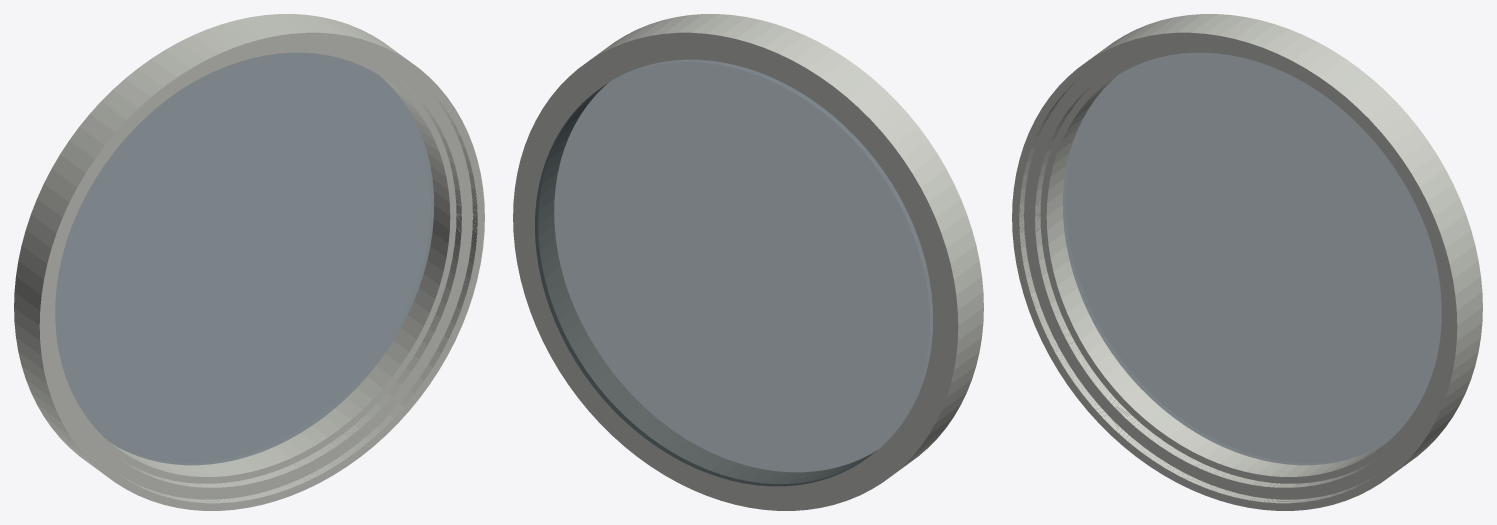
The model's file is clasico_circle.glb.
3 views of the same model, side by side, from view 1: azimuth 30°, elevation 25°; view 2: azimuth 150°, elevation 25°; view 3: azimuth 330°, elevation 25° (orthographic).
Parts seen in each view (by area): view 1: window_glass#0001, window_reveal#0001, window_profile#0020, window_profile#0009, window_profile#0010, window_profile#0017, window_profile#0001, window_profile#0011, window_profile#0018, window_profile#0019, window_profile#0012, window_profile#0002 (+10 smaller); view 2: window_glass#0001, window_reveal#0001, window_profile#0020, window_profile#0001; view 3: window_glass#0001, window_reveal#0001, window_profile#0020, window_profile#0009, window_profile#0010, window_profile#0017, window_profile#0011, window_profile#0018, window_profile#0019, window_profile#0001, window_profile#0012, window_profile#0002 (+10 smaller).
Boxes of the visible parts, x1,y1,x2,y2 form: window_glass#0001: (55, 52, 434, 465); window_reveal#0001: (14, 14, 448, 475); window_profile#0020: (27, 24, 484, 510); window_profile#0009: (51, 46, 464, 490); window_profile#0010: (48, 43, 467, 493); window_profile#0017: (45, 38, 479, 504); window_profile#0001: (53, 51, 451, 478); window_profile#0011: (47, 40, 470, 496); window_profile#0018: (43, 36, 481, 506); window_profile#0019: (41, 34, 482, 508); window_profile#0012: (58, 40, 472, 499); window_profile#0002: (54, 49, 453, 480); window_glass#0001: (535, 59, 933, 486); window_reveal#0001: (513, 22, 972, 510); window_profile#0020: (603, 14, 983, 462); window_profile#0001: (551, 85, 875, 474); window_glass#0001: (1062, 52, 1441, 465); window_reveal#0001: (1048, 14, 1482, 475); window_profile#0020: (1012, 23, 1469, 510); window_profile#0009: (1032, 46, 1445, 490); window_profile#0010: (1029, 43, 1448, 493); window_profile#0017: (1017, 38, 1451, 504); window_profile#0011: (1026, 40, 1449, 496); window_profile#0018: (1015, 36, 1453, 506); window_profile#0019: (1014, 34, 1455, 508); window_profile#0001: (1045, 51, 1443, 478); window_profile#0012: (1024, 40, 1438, 499); window_profile#0002: (1043, 49, 1442, 480).
Size of the model in its own units: 1.6 by 1.6 by 0.18.
